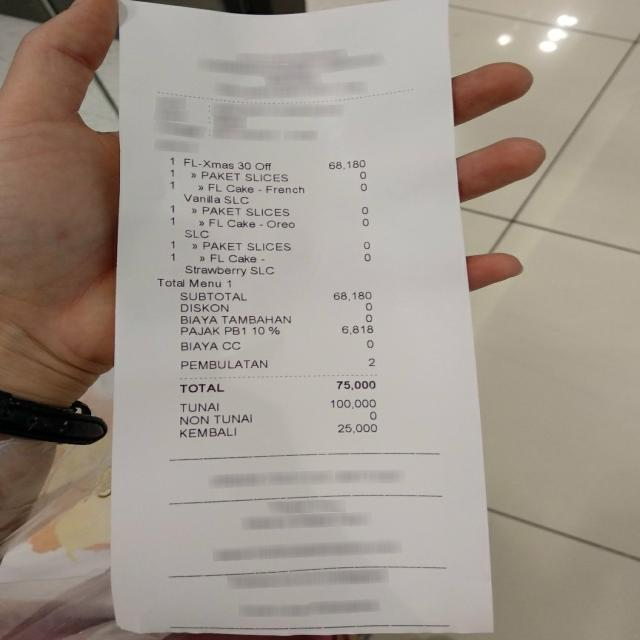kertas: (112, 0, 493, 635)
